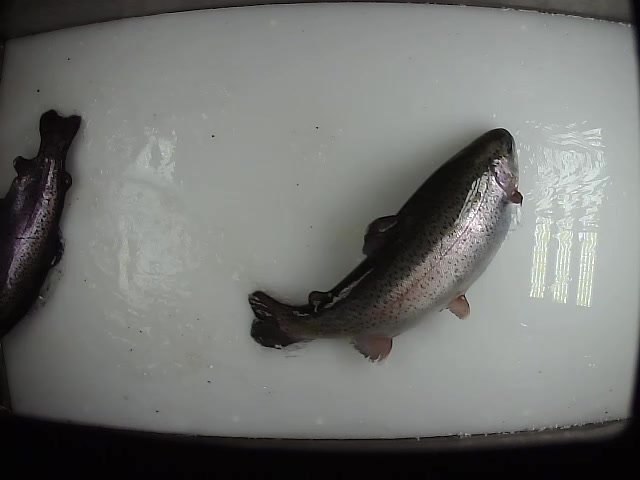fish: (247, 126, 525, 368), (1, 108, 85, 343)
